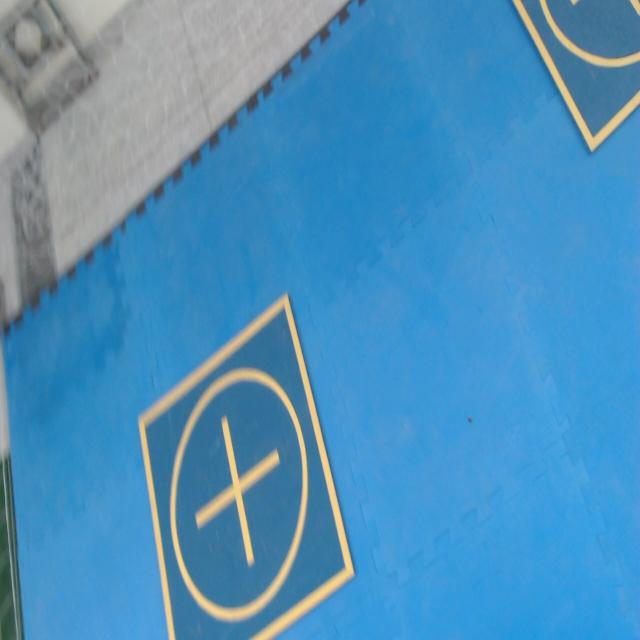base_pouso: (138, 290, 357, 639), (511, 0, 640, 158)
